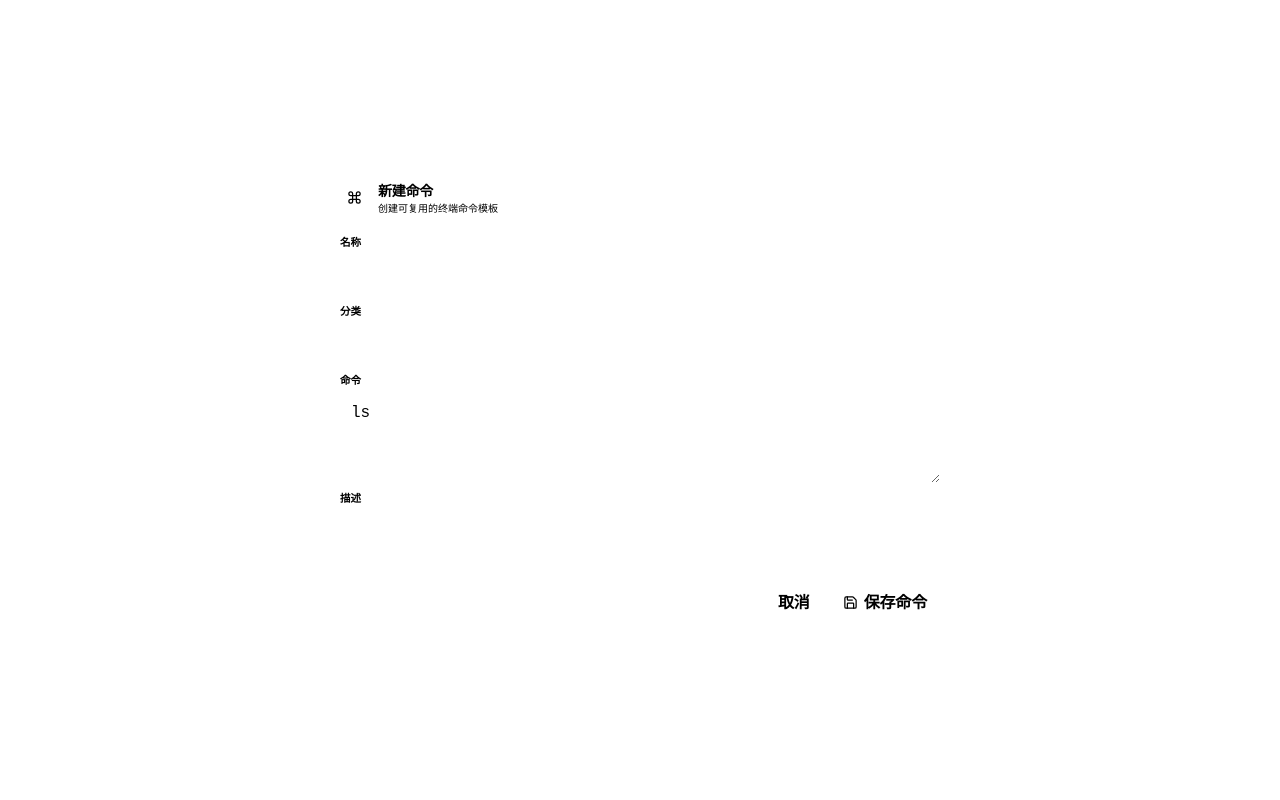
Test: CommandModal locale › reports the empty-name validation in the interface language
This screenshot has width=1280, height=800.
Click the button "保存命令". click: (885, 602)
box: [830,582,940,622]
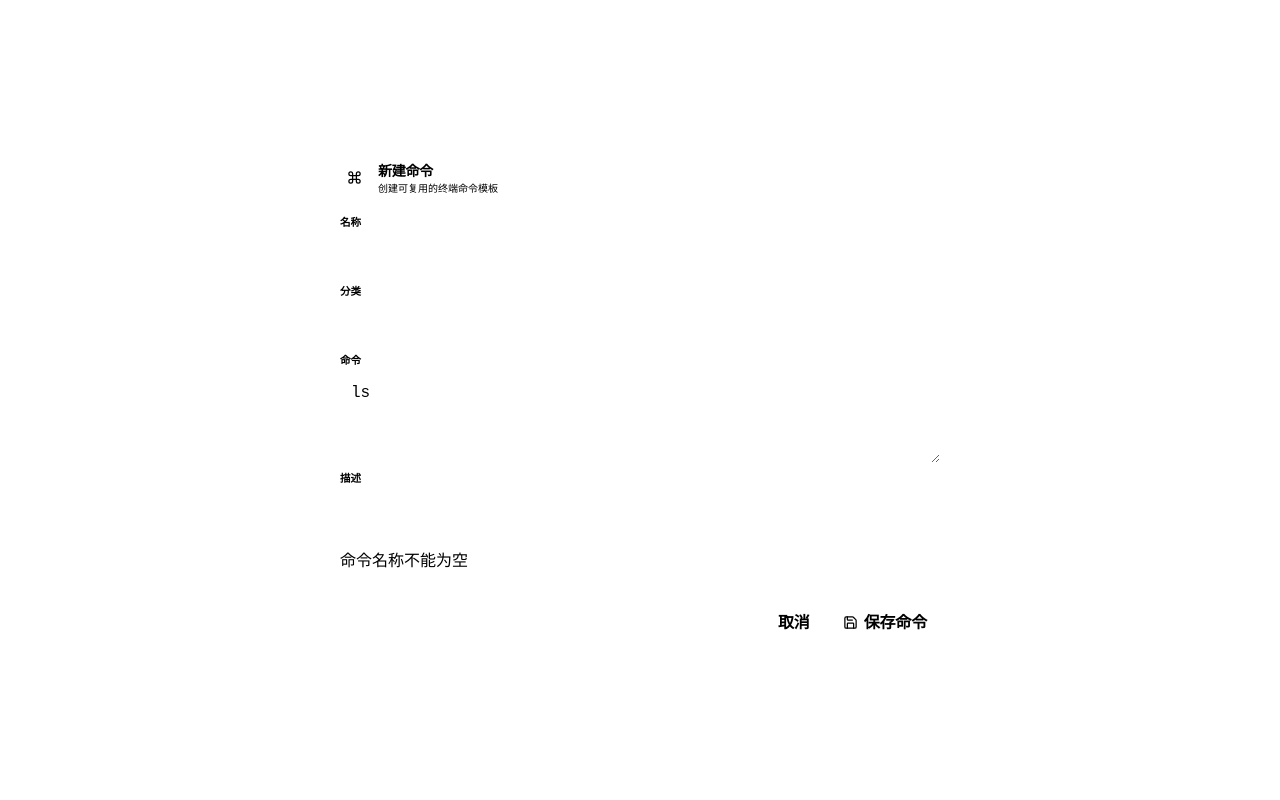
Expected: the message reads "命令名称不能为空", [340,550,468,570]
